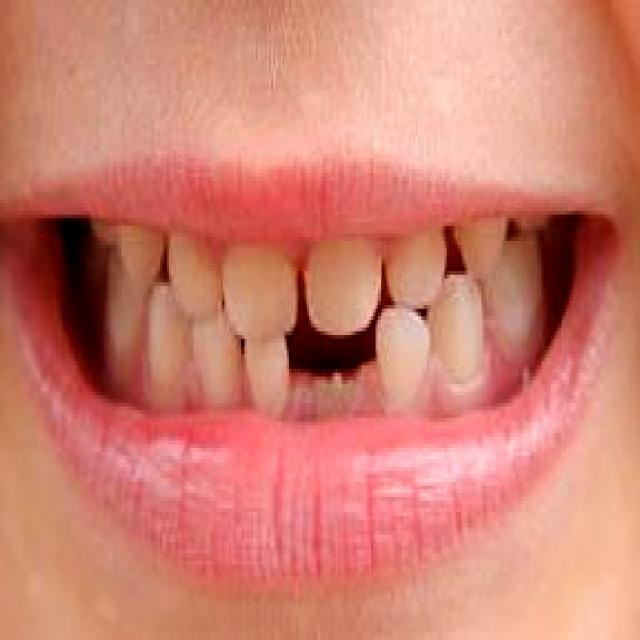hypodontia: (287, 320, 373, 380)
